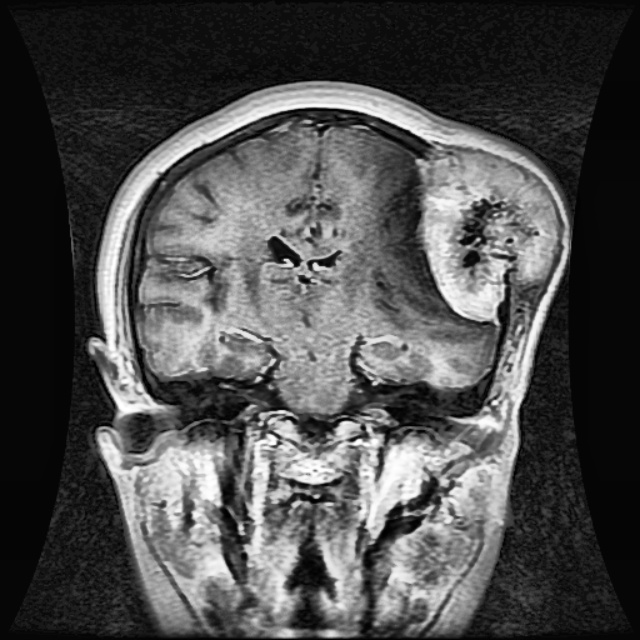Glioma: (417, 145, 557, 322)
